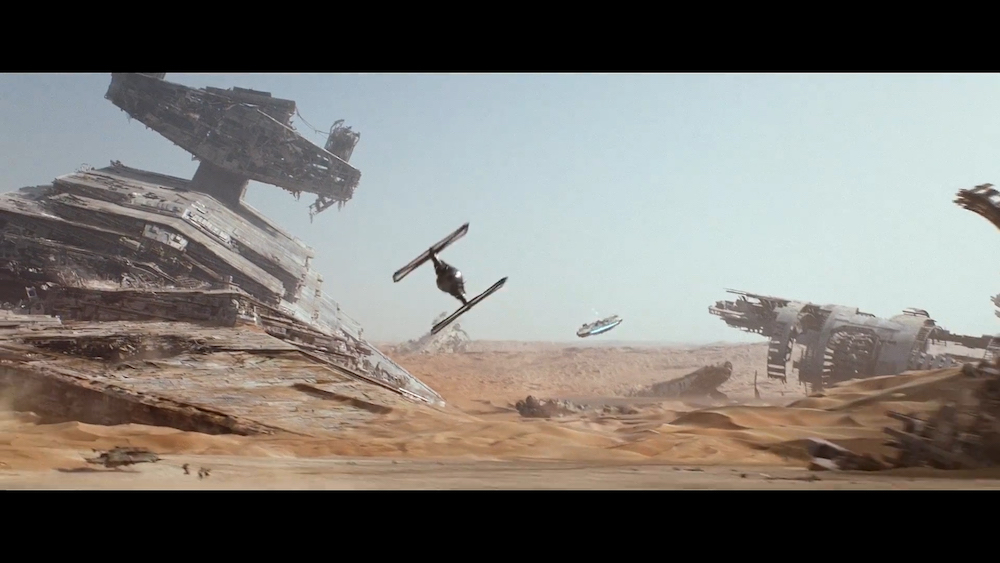Millennium Falcon: (577, 315, 624, 339)
Tie Fighter: (391, 222, 510, 338)
